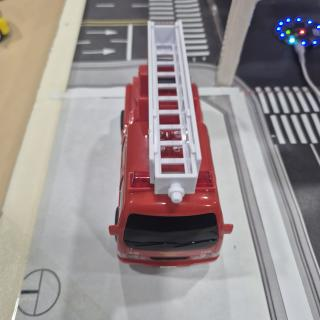Fire_truck: (109, 21, 233, 268)
